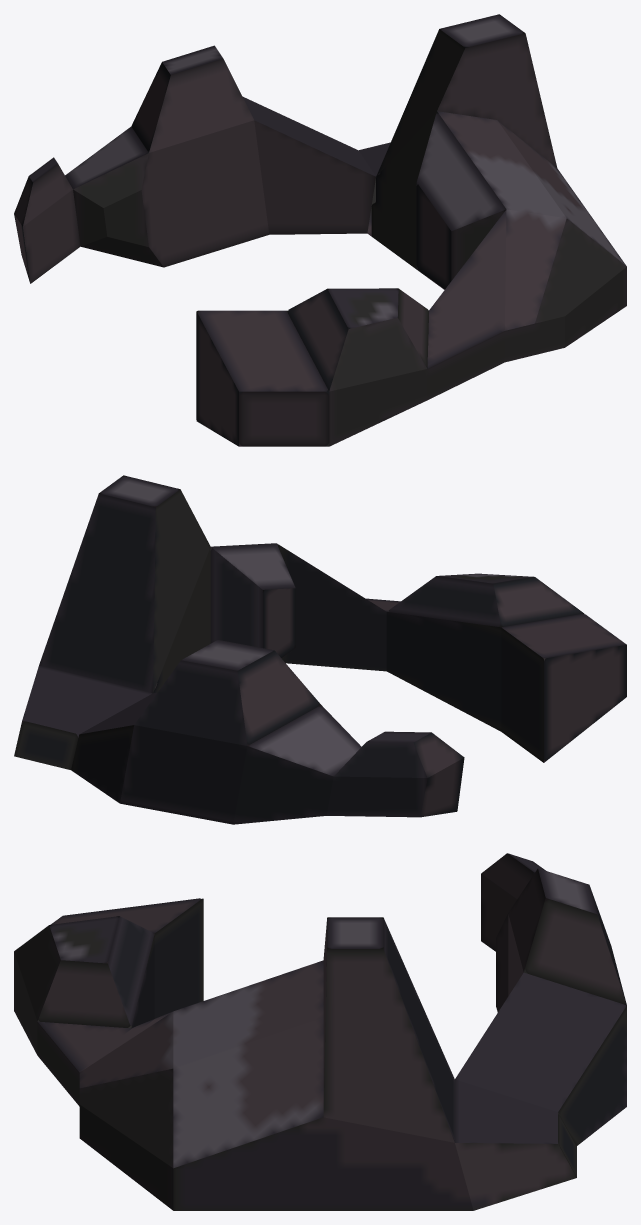
Rendered from rocks in a circle.fbx.
3 views of the same model, one above another, from view 1: azimuth 30°, elevation 25°; view 2: azimuth 150°, elevation 25°; view 3: azimuth 270°, elevation 25° (orthographic). The views are drawn at different scales.
Parts seen in each view (by area): view 1: mesh; view 2: mesh; view 3: mesh.
Part boxes in pixels (x1,y1,x2,y2): mesh: (14, 14, 626, 446); mesh: (14, 475, 626, 824); mesh: (14, 853, 626, 1210).
Bounding box in the file's own units: 383 × 199 × 408.
1 material, 1 textured.
